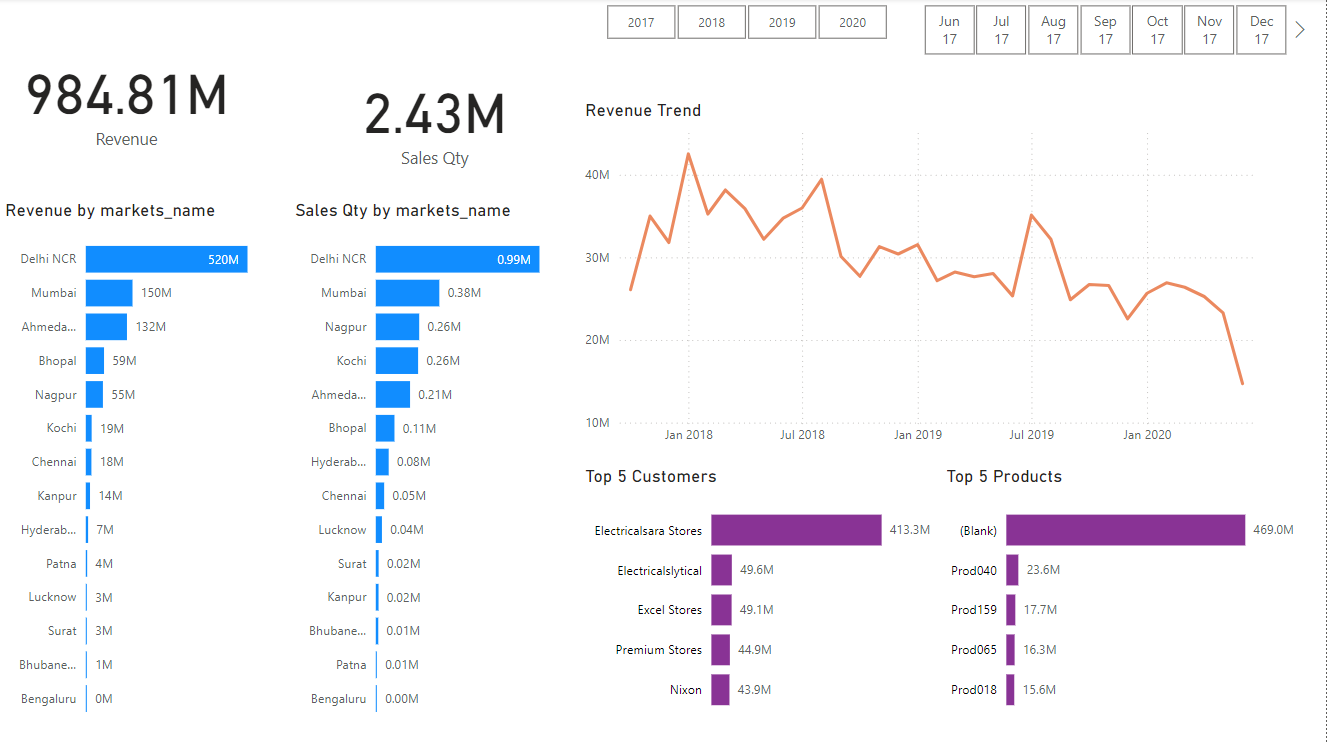

What the dashboard file says about the page in this screenshot:
{"tool":"powerbi","page":{"name":"Page 1","canvas":[1280,720],"ordinal":0},"visuals":[{"type":"card","fields":{"Values":["Report.Revenue"]},"box":[0,0,244.5,194.4],"z":0},{"type":"card","fields":{"Values":["Report.Sales Qty"]},"box":[279.9,0,279.9,231],"z":1000},{"type":"clusteredBarChart","fields":{"Y":["Report.Revenue"],"Category":["sales markets.markets_name"]},"box":[0,194.4,279.9,513.4],"z":2000},{"type":"clusteredBarChart","fields":{"Y":["Report.Sales Qty"],"Category":["sales markets.markets_name"]},"box":[279.9,194.4,279.9,513.4],"z":3000},{"type":"slicer","fields":{"Values":["sales date.year"]},"box":[559.9,0,320.3,46.5],"z":4000},{"type":"slicer","fields":{"Values":["sales date.cy_date"]},"box":[866.2,0,399.3,61.5],"z":5000},{"type":"clusteredBarChart","title":"Top 5 Customers","fields":{"Y":["Report.Revenue"],"Category":["sales customers.custmer_name"]},"box":[559.9,451.1,348.4,253],"z":6000},{"type":"clusteredBarChart","title":"Top 5 Products","fields":{"Y":["Report.Revenue"],"Category":["sales products.product_code"]},"box":[908.3,451.1,348.4,253],"z":7000},{"type":"lineChart","title":"Revenue Trend","fields":{"Y":["Report.Revenue"],"Category":["sales date.cy_date.Variation.Date Hierarchy.Year","sales date.cy_date.Variation.Date Hierarchy.Quarter","sales date.cy_date.Variation.Date Hierarchy.Month","sales date.cy_date.Variation.Date Hierarchy.Day"]},"box":[559.9,97.8,668.7,342.3],"z":8000}]}

Visuals, with their boxes in screenshot pixels (x1, y1, x2, y2), scaled from the page's 1280x720 canvas onto the 1327x742 screenshot:
card - Report.Revenue: 0,0,253,200
card - Report.Sales Qty: 290,0,580,238
clusteredBarChart - Report.Revenue x sales markets.markets_name: 0,200,290,729
clusteredBarChart - Report.Sales Qty x sales markets.markets_name: 290,200,580,729
slicer - sales date.year: 580,0,913,48
slicer - sales date.cy_date: 898,0,1312,63
"Top 5 Customers" clusteredBarChart: 580,465,942,726
"Top 5 Products" clusteredBarChart: 942,465,1303,726
"Revenue Trend" lineChart: 580,101,1274,454
